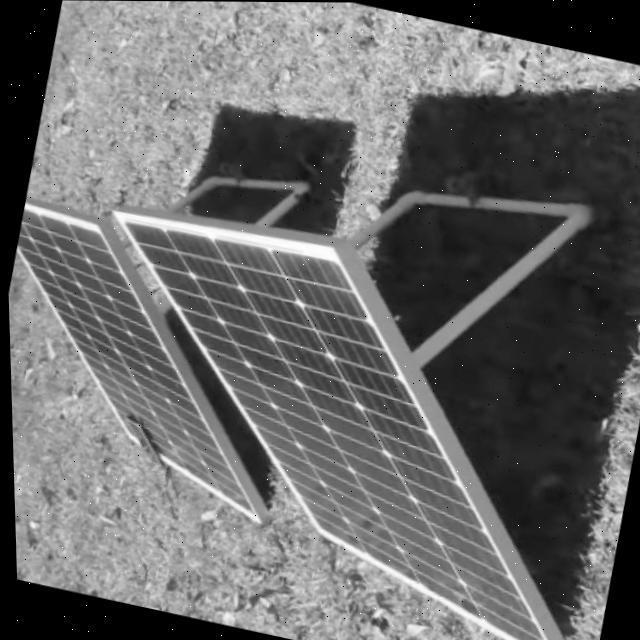Normal Solar Panel: (41, 189, 640, 640), (5, 191, 318, 522)
